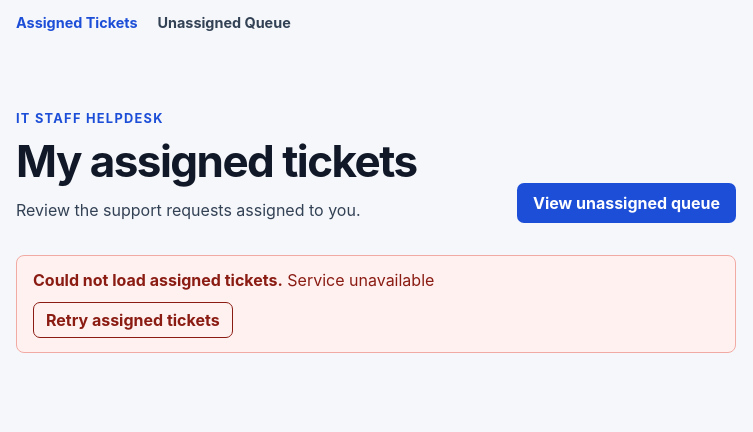
Test: IT assigned tickets › displays an API error and retries the request
Check: the message shows "Could not load assigned tickets. Service unavailable", box [16, 256, 736, 354]
Click the button "Retry assigned tickets": (133, 320) [33, 302, 233, 338]
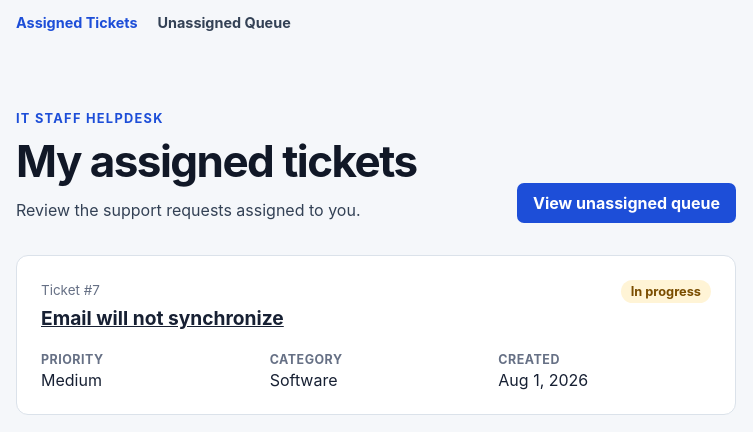
Check: the link "Email will not synchronize" is shown, box [41, 306, 284, 330]
